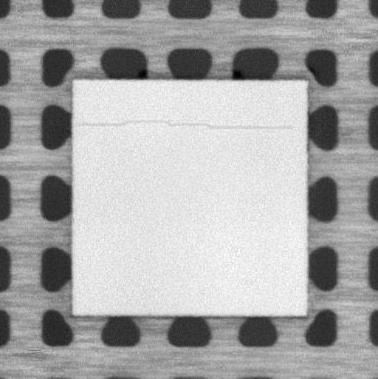DIE_CRACK: (80, 117, 293, 134)
